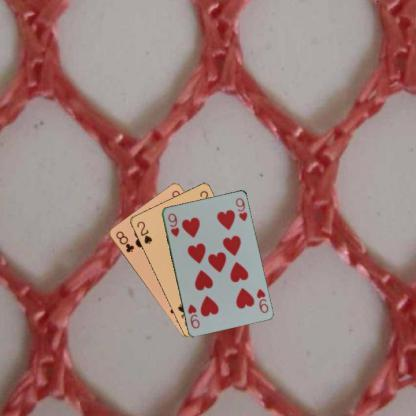2s: (134, 218, 153, 245)
8c: (113, 229, 135, 254)
9h: (254, 286, 270, 314), (166, 210, 180, 238)
